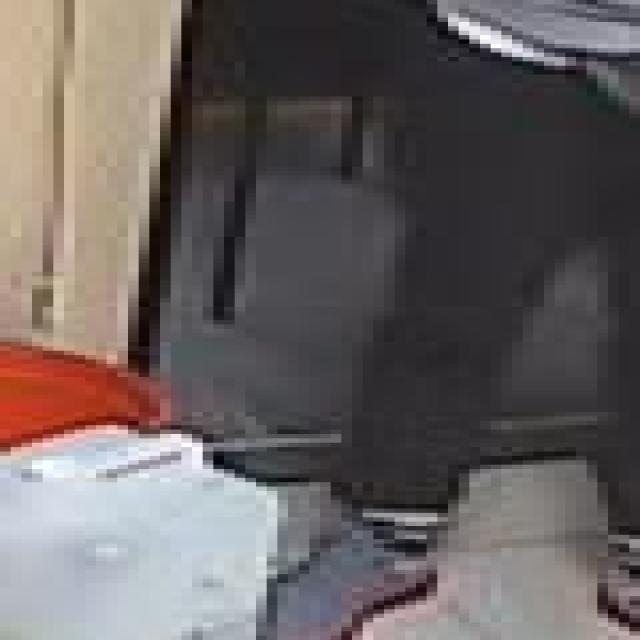Guns: (469, 0, 640, 53)
